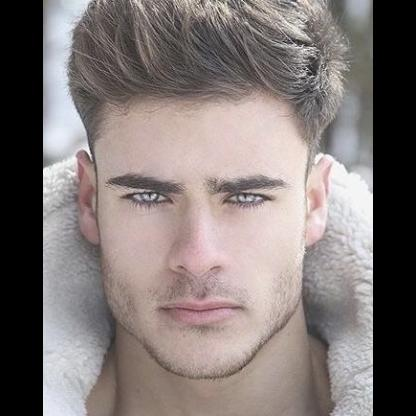Male: (74, 81, 332, 378)
